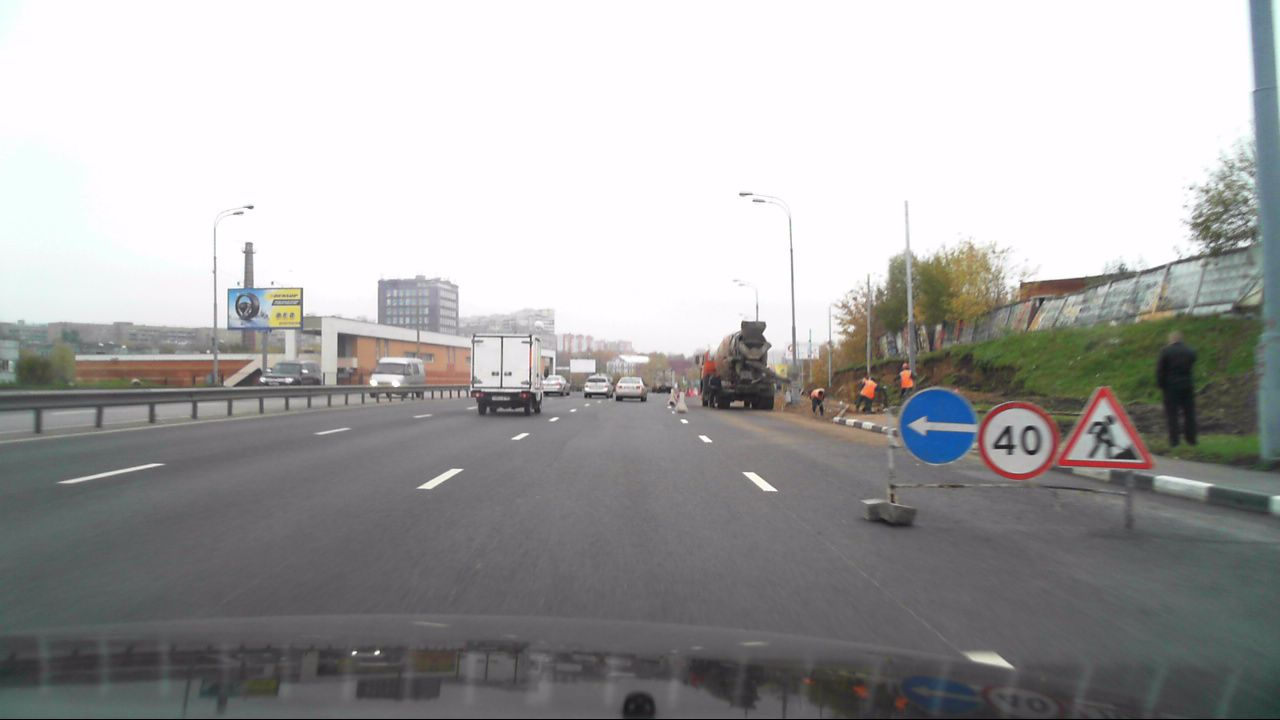Turn Left: (900, 387, 977, 464)
speed_warning_40: (978, 400, 1057, 481)
